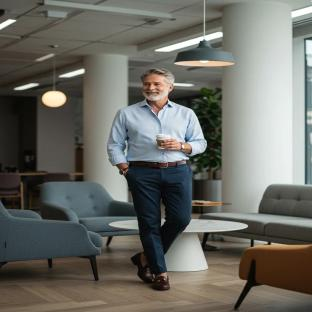Human: (108, 68, 206, 290)
